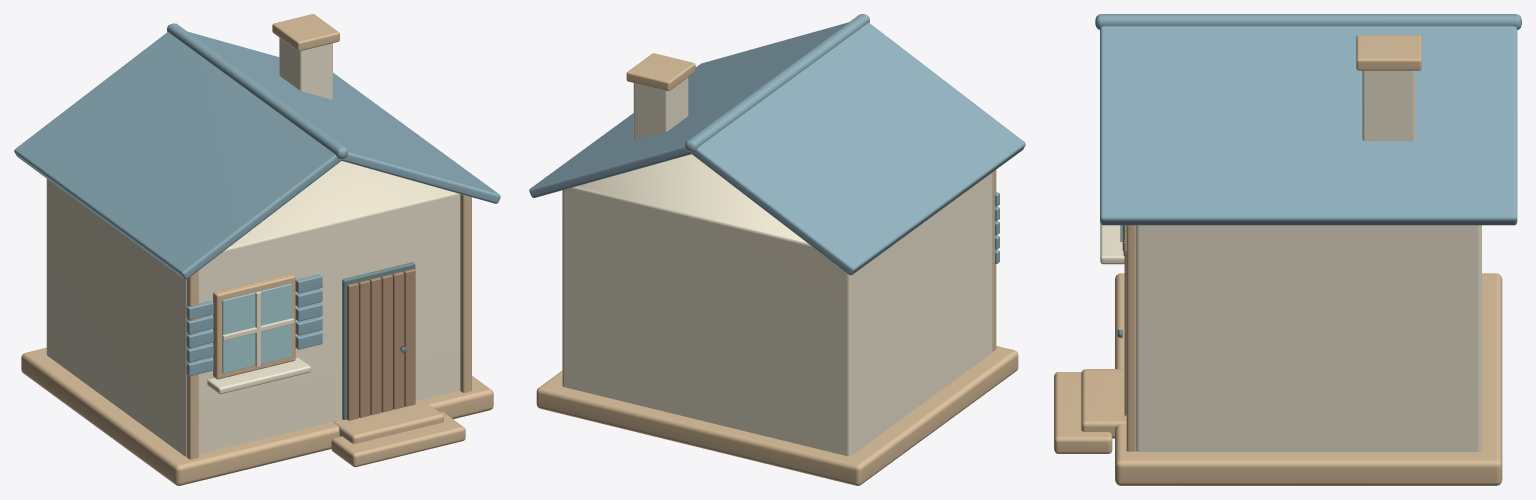
File: IslandCottage.fbx
The picture shows the model from 3 angles, left to right: view 1: azimuth 30°, elevation 25°; view 2: azimuth 150°, elevation 25°; view 3: azimuth 270°, elevation 25°; orthographic projection. The views are drawn at different scales.
Visible parts, largest first — view 1: IslandCottage; view 2: IslandCottage; view 3: IslandCottage.
Boxes of the visible parts, x1,y1,x2,y2 form: IslandCottage: [14, 14, 500, 485]; IslandCottage: [529, 14, 1025, 485]; IslandCottage: [1054, 14, 1521, 485].
Bounding box in the file's own units: 451 × 433 × 465.
